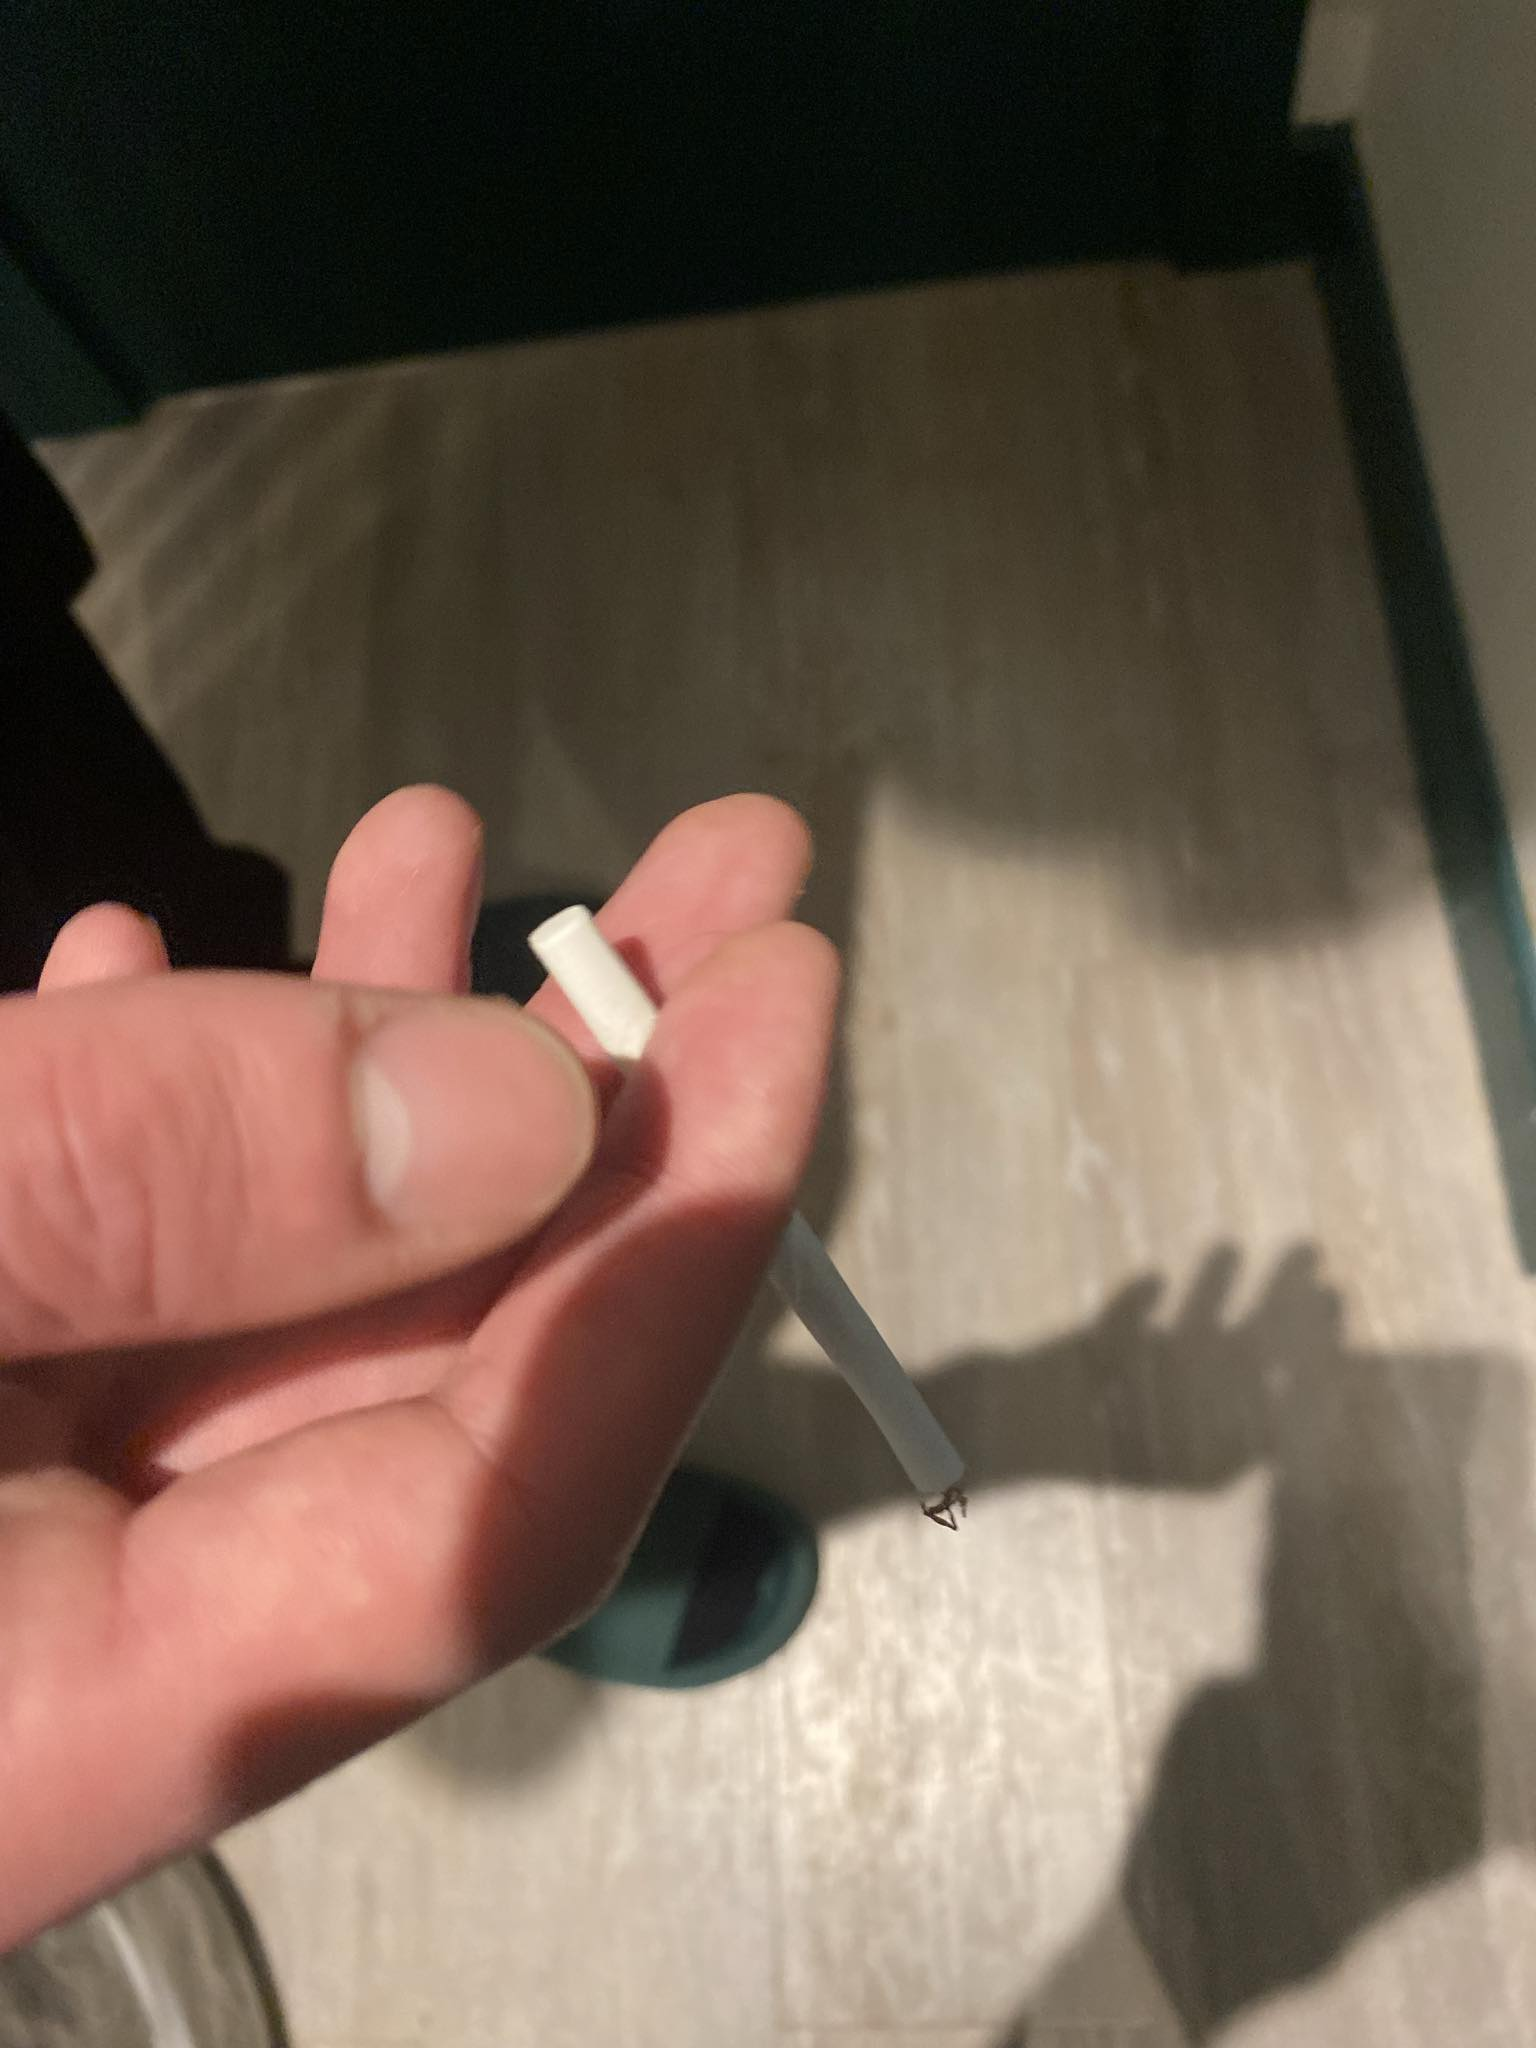Cigarette: (528, 900, 971, 1529)
